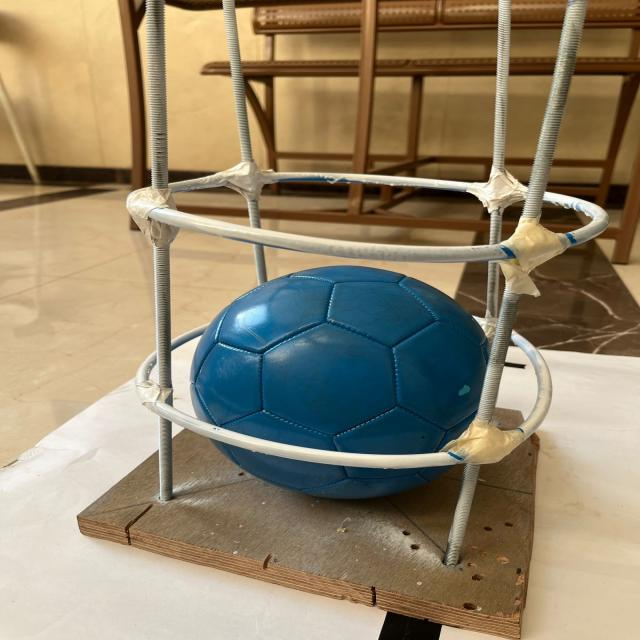blue_ball: (193, 261, 492, 500)
silo: (92, 0, 613, 630)
